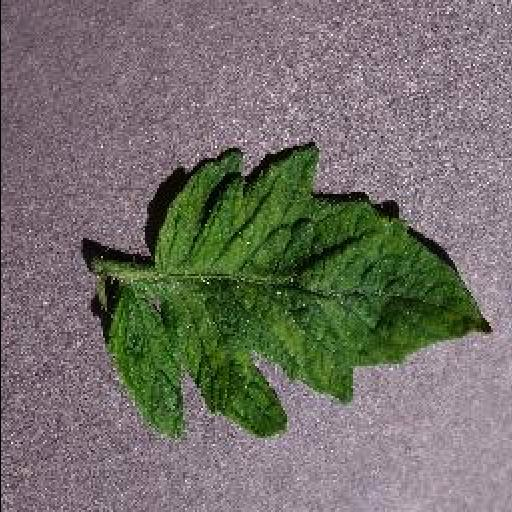disease_tomato: (104, 139, 496, 437)
